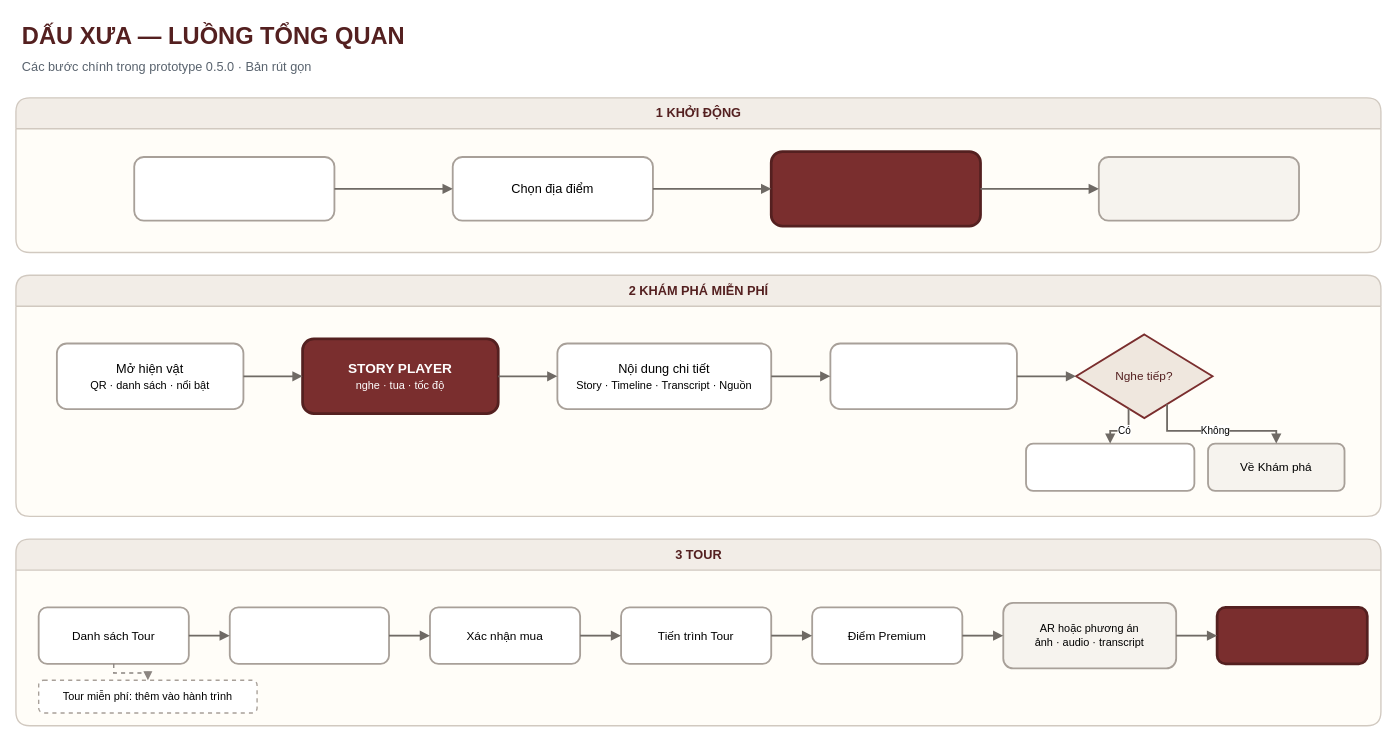
Image size: 1398x742. Some labels were removed from this diagram. Each missing label, with the centre of its shape:
Gợi ý điểm tiếp theo: the point at 923,376
HOÀN THÀNH TOUR: the point at 1291,635
KHÁM PHÁ trang trung tâm: the point at 875,188
Mở câu chuyện khác: the point at 1110,466
Welcome ngôn ngữ · trợ năng: the point at 234,188
Xem trước Premium: the point at 308,635
Điều hướng đáy Tour · Đã lưu · Cá nhân: the point at 1198,188
